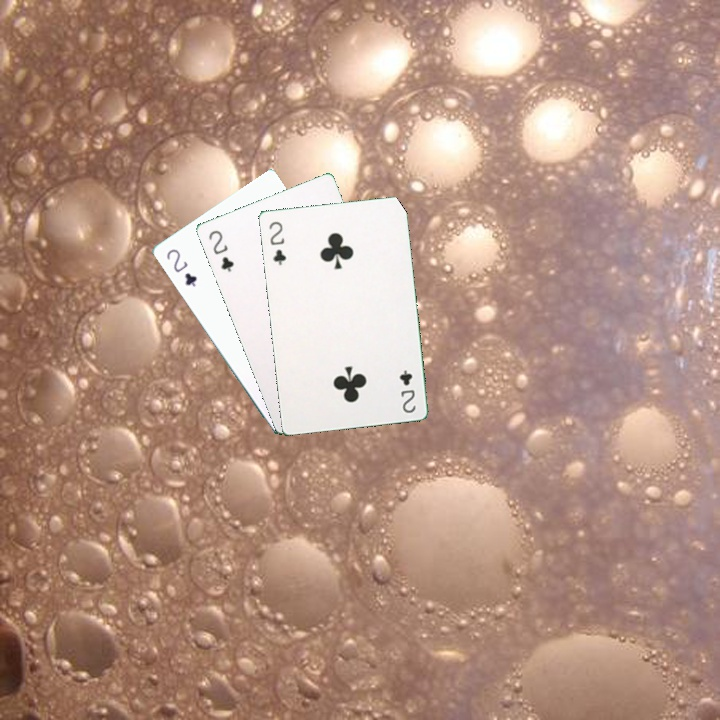2c: (162, 245, 200, 289), (205, 226, 236, 275), (265, 217, 288, 268), (395, 366, 418, 415)
